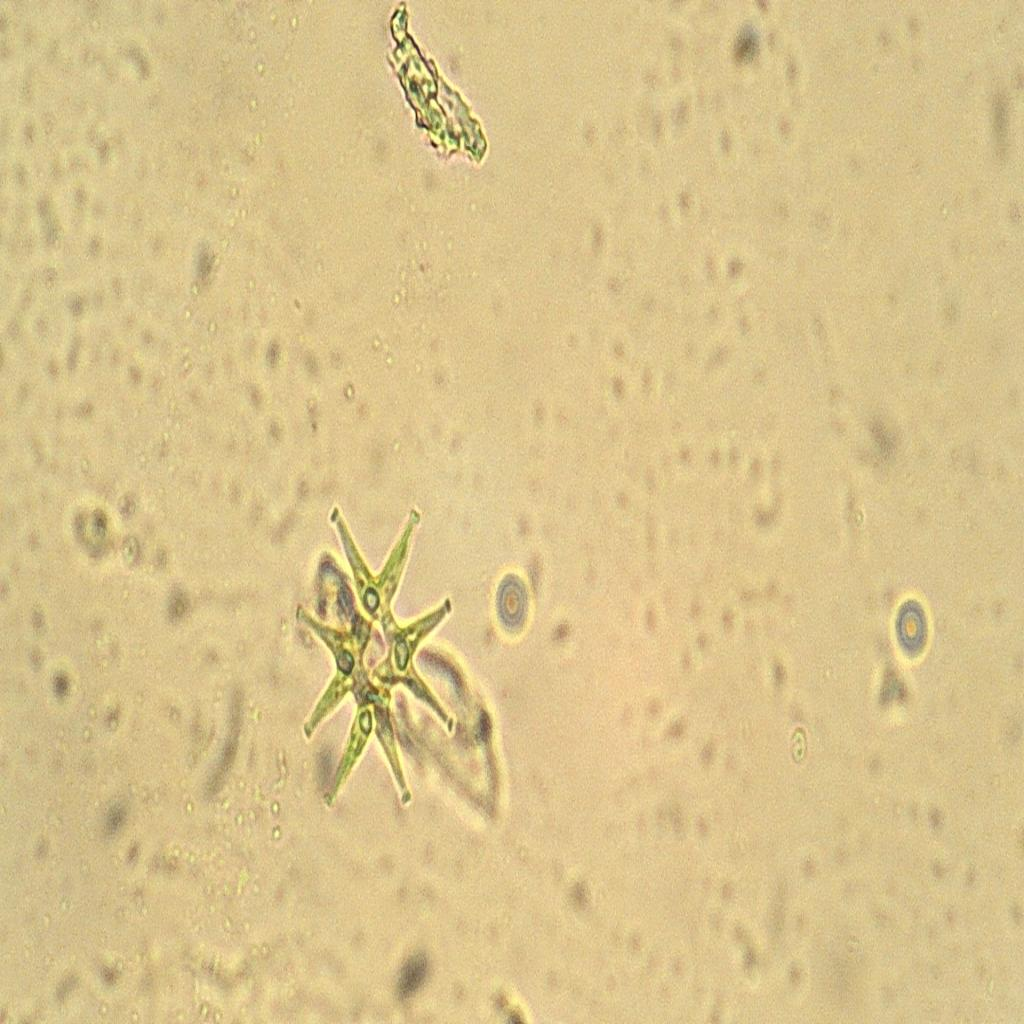Pediastrum_CF: (288, 498, 462, 838)
